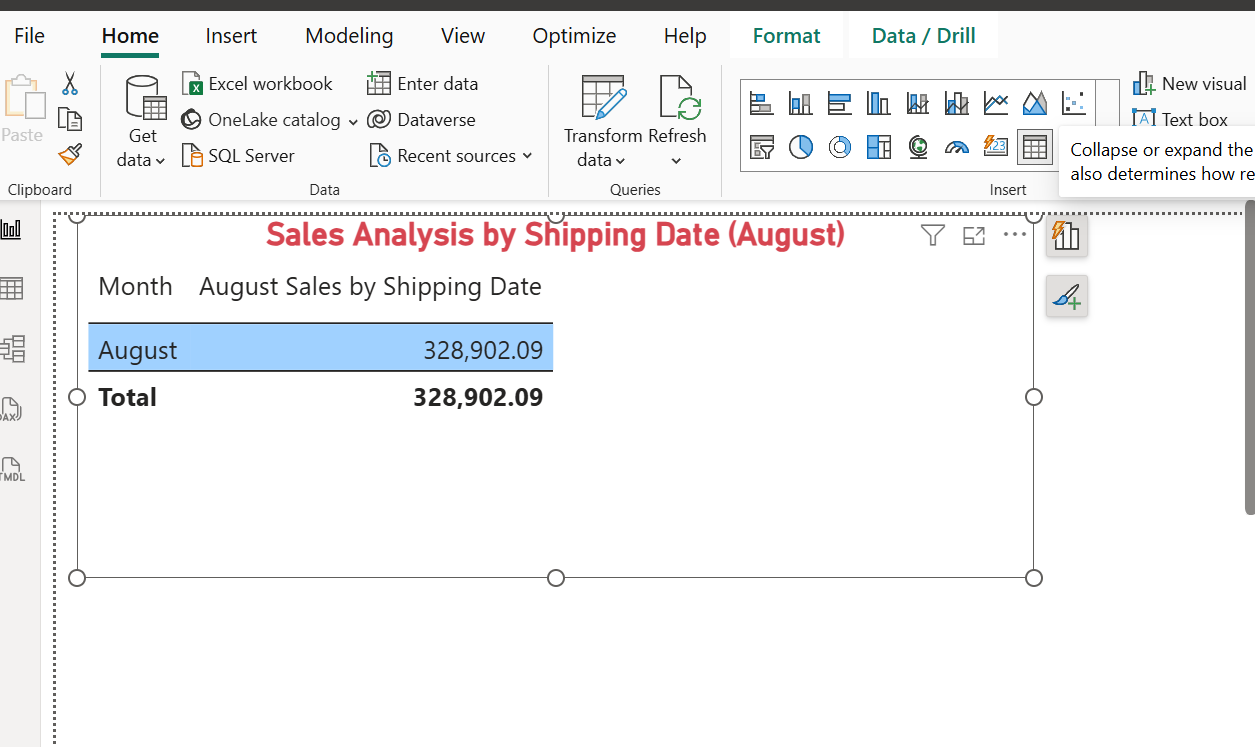

This screenshot's page, from the dashboard's own definition file:
{"tool":"powerbi","page":{"name":"Page 1","canvas":[1280,720],"ordinal":0},"visuals":[{"type":"tableEx","title":"Sales Analysis by Shipping Date (August)","fields":{"Values":["Date.Month","Sales.August Sales by Shipping Date"]},"box":[11,0,502.1,190.3],"z":0}]}

Visuals, with their boxes on the page's 1280x720 design canvas (x1, y1, x2, y2). These are canvas units, not pixel positions in the 1255x747 screenshot, which may show the page scaled, cropped or inside an application window:
"Sales Analysis by Shipping Date (August)" tableEx: detection(11, 0, 513, 190)
